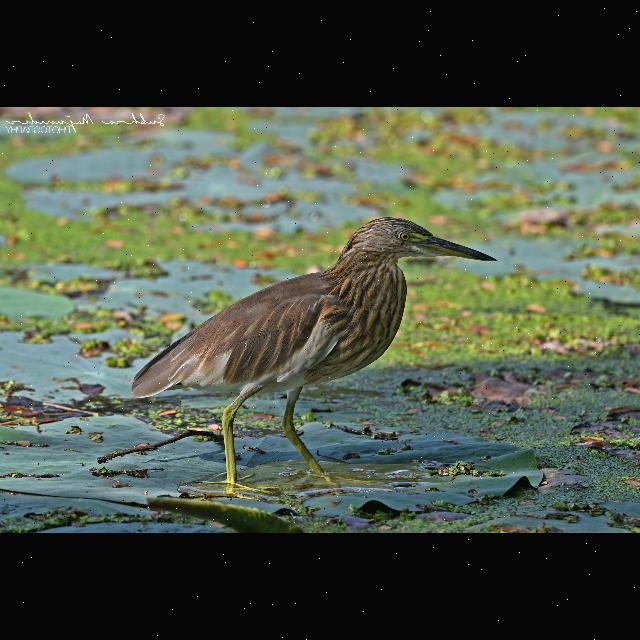heron: (130, 212, 507, 488)
